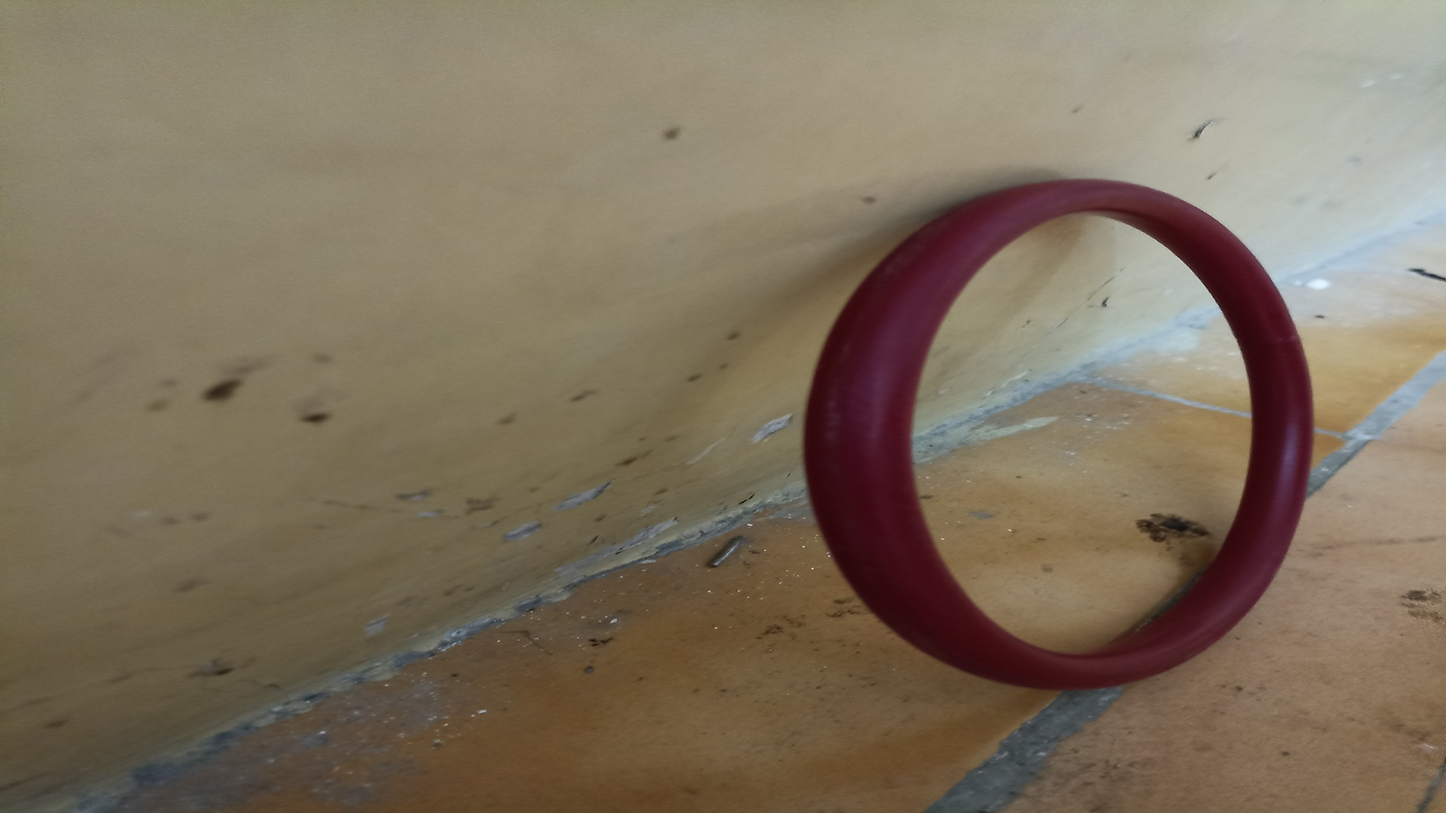Red ring: (798, 182, 1316, 690)
